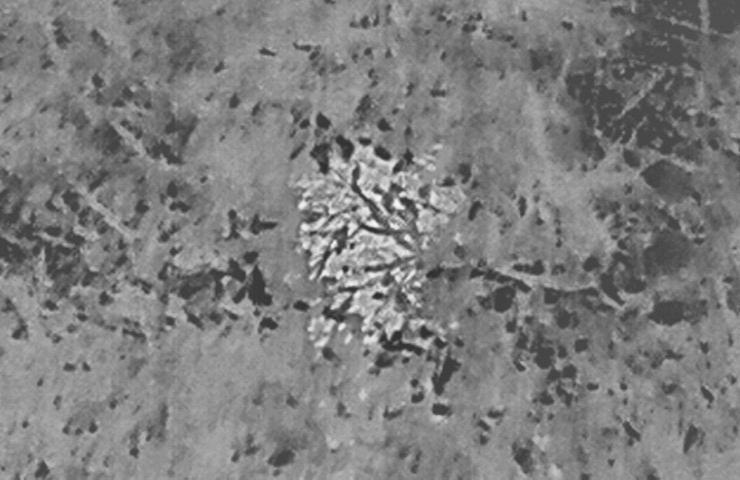landmines: (296, 145, 467, 351)
